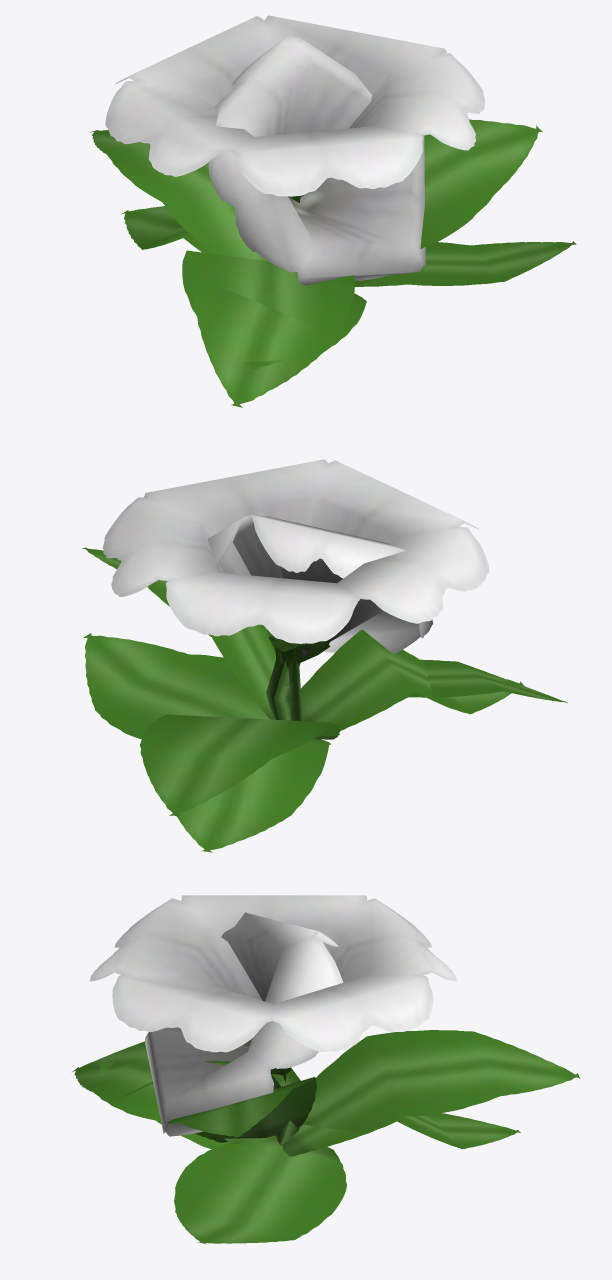
Rendered from petunia.glb.
3 renders of one model, top to bottom at view 1: azimuth 30°, elevation 25°; view 2: azimuth 150°, elevation 25°; view 3: azimuth 270°, elevation 25°, orthographic. The views are drawn at different scales.
Parts seen in each view (by area): view 1: desat_petals_bloom, desat_petals_wilt, leaf3_bloom, leaf1_bloom, leaf2_wilt, leaf2_bloom, leaf3_wilt, leaf1_wilt; view 2: desat_petals_bloom, leaf3_wilt, leaf2_bloom, desat_petals_wilt, leaf2_wilt, leaf1_wilt, leaf1_bloom, leaf3_bloom, stem_wilt, stem_bloom, bulb_wilt; view 3: desat_petals_bloom, leaf2_bloom, desat_petals_wilt, leaf3_wilt, leaf1_bloom, leaf3_bloom, leaf1_wilt, stem_wilt.
Part boxes in pixels (x1,y1,x2,y2): desat_petals_bloom: (105,15,484,196); desat_petals_wilt: (208,35,425,285); leaf3_bloom: (193,277,366,407); leaf1_bloom: (354,119,542,286); leaf2_wilt: (182,250,354,369); leaf2_bloom: (90,130,268,261); leaf3_wilt: (356,241,576,286); leaf1_wilt: (121,206,209,253); desat_petals_bloom: (102,459,489,643); leaf3_wilt: (83,633,269,739); leaf2_bloom: (140,714,340,815); desat_petals_wilt: (207,515,433,656); leaf2_wilt: (301,629,523,739); leaf1_wilt: (176,738,330,852); leaf1_bloom: (82,547,275,719); leaf3_bloom: (334,659,567,726); stem_wilt: (266,661,300,720); stem_bloom: (275,647,302,720); bulb_wilt: (267,629,330,668); desat_petals_bloom: (89,895,457,1052); leaf2_bloom: (303,1030,580,1133); desat_petals_wilt: (145,912,343,1136); leaf3_wilt: (174,1140,346,1244); leaf1_bloom: (167,1077,316,1142); leaf3_bloom: (72,1041,277,1149); leaf1_wilt: (282,1113,520,1156); stem_wilt: (272,1068,300,1145).
Size of the model in its own units: 0.7064 by 0.3523 by 0.7739.
Materials: 4 (4 with a texture image).
